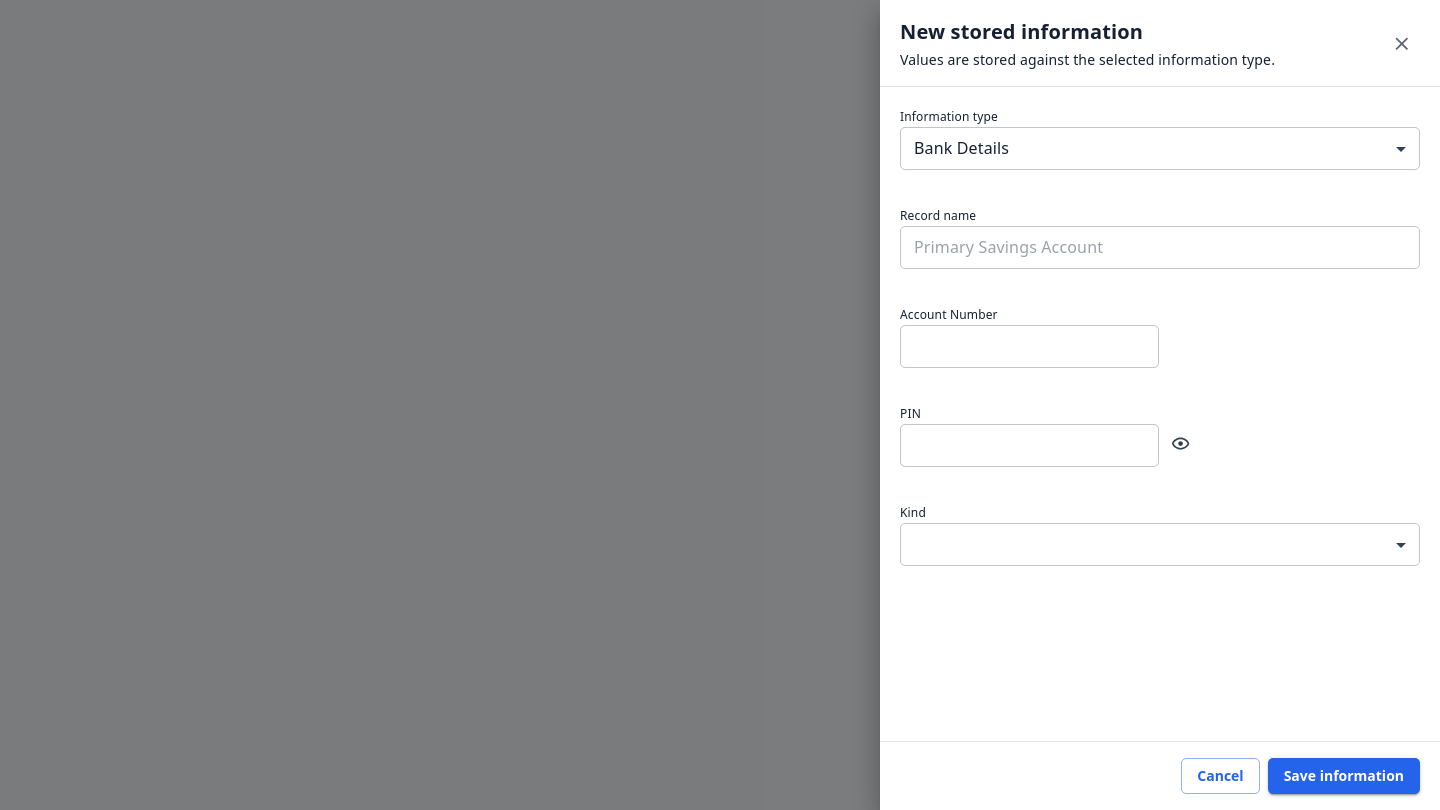
LockerRecordFormDrawer › requires a record name before saving
The width and height of the screenshot is (1440, 810).
Click the button "Save information" at point(1344, 776), box [1268,758,1420,794]
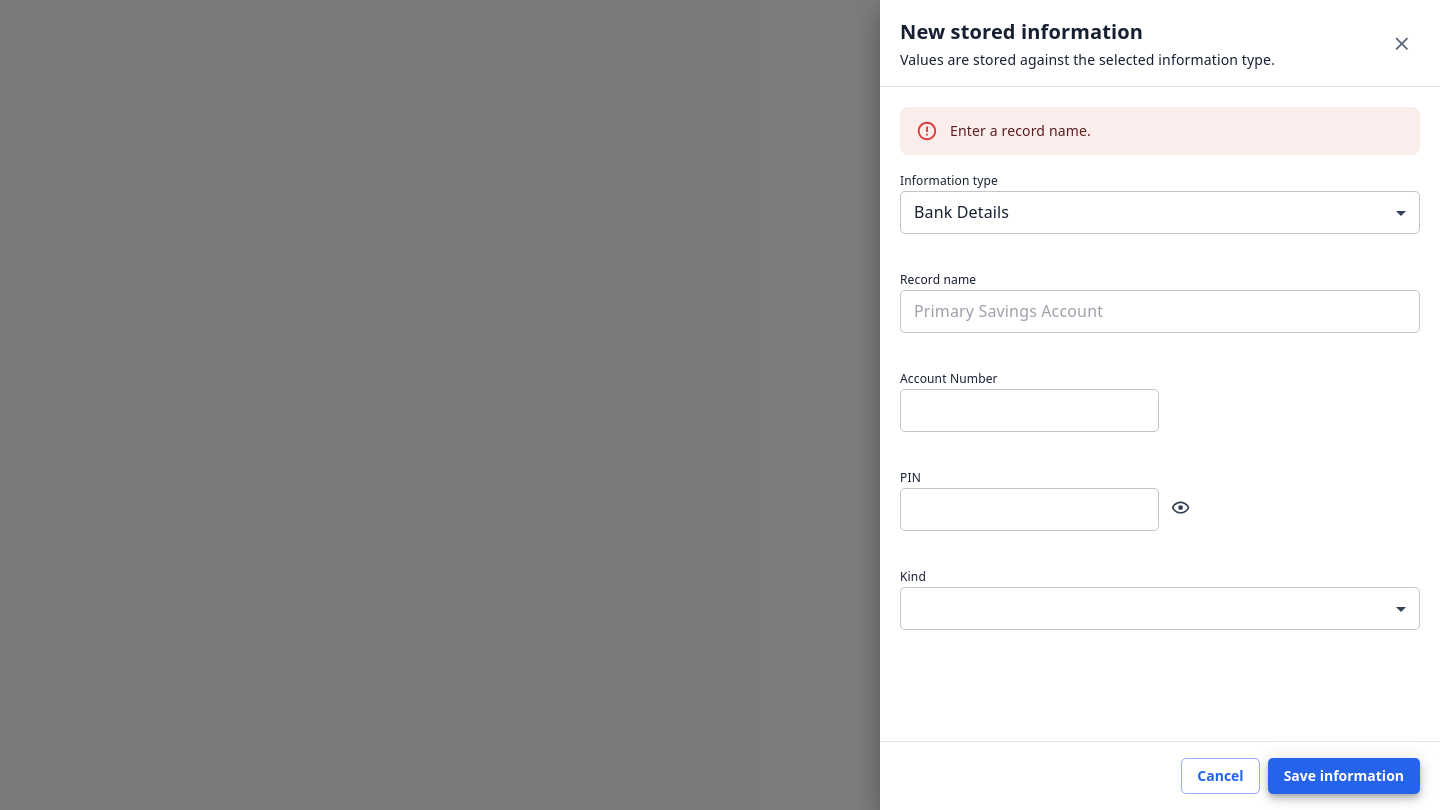
Expected: the text "Enter a record name." is shown, [950,121,1091,140]
